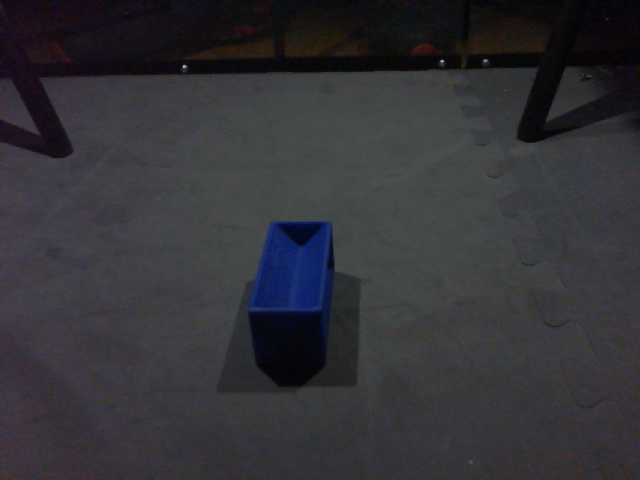BlueSample: (242, 218, 336, 369)
